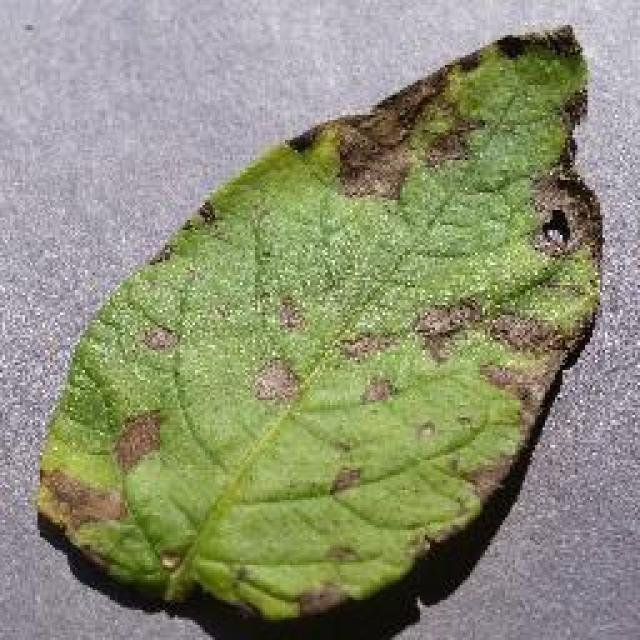early_blight: (30, 20, 608, 630)
